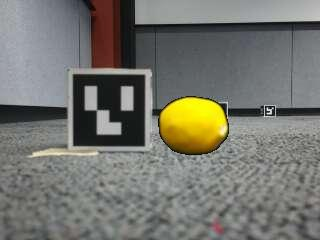lemon: (160, 97, 229, 154)
